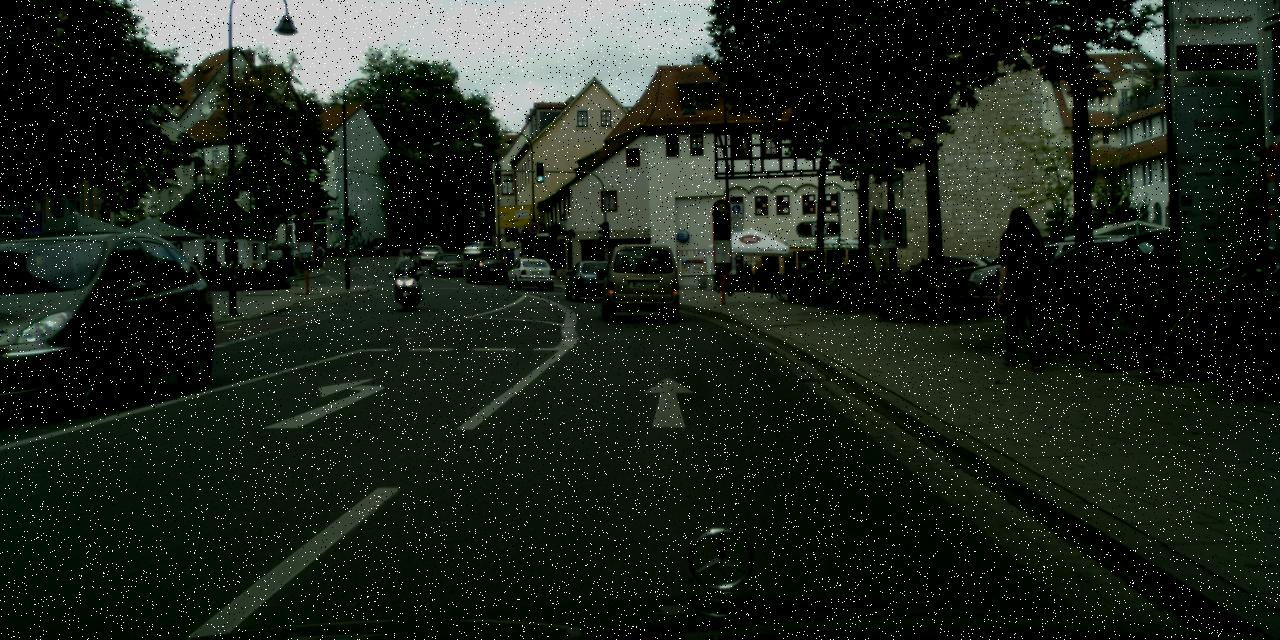ped: (990, 207, 1054, 367), (396, 250, 416, 296), (193, 254, 223, 270), (314, 241, 326, 271)
